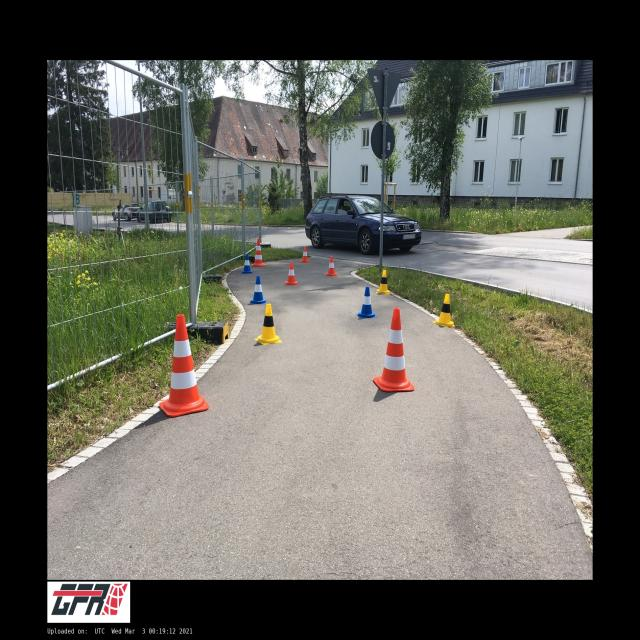blue_cone: (356, 287, 377, 318), (250, 275, 266, 304), (241, 255, 253, 273)
large_orange_cone: (159, 314, 209, 417), (373, 308, 414, 392), (252, 239, 266, 266)
orange_cone: (284, 263, 298, 285), (326, 257, 338, 276), (300, 247, 310, 262)
yellow_cone: (255, 304, 282, 345), (432, 294, 454, 326), (376, 270, 391, 294)
